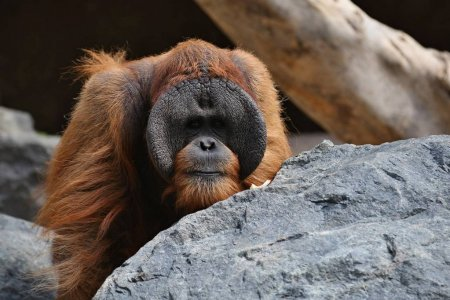Orangutan: (61, 50, 275, 201)
